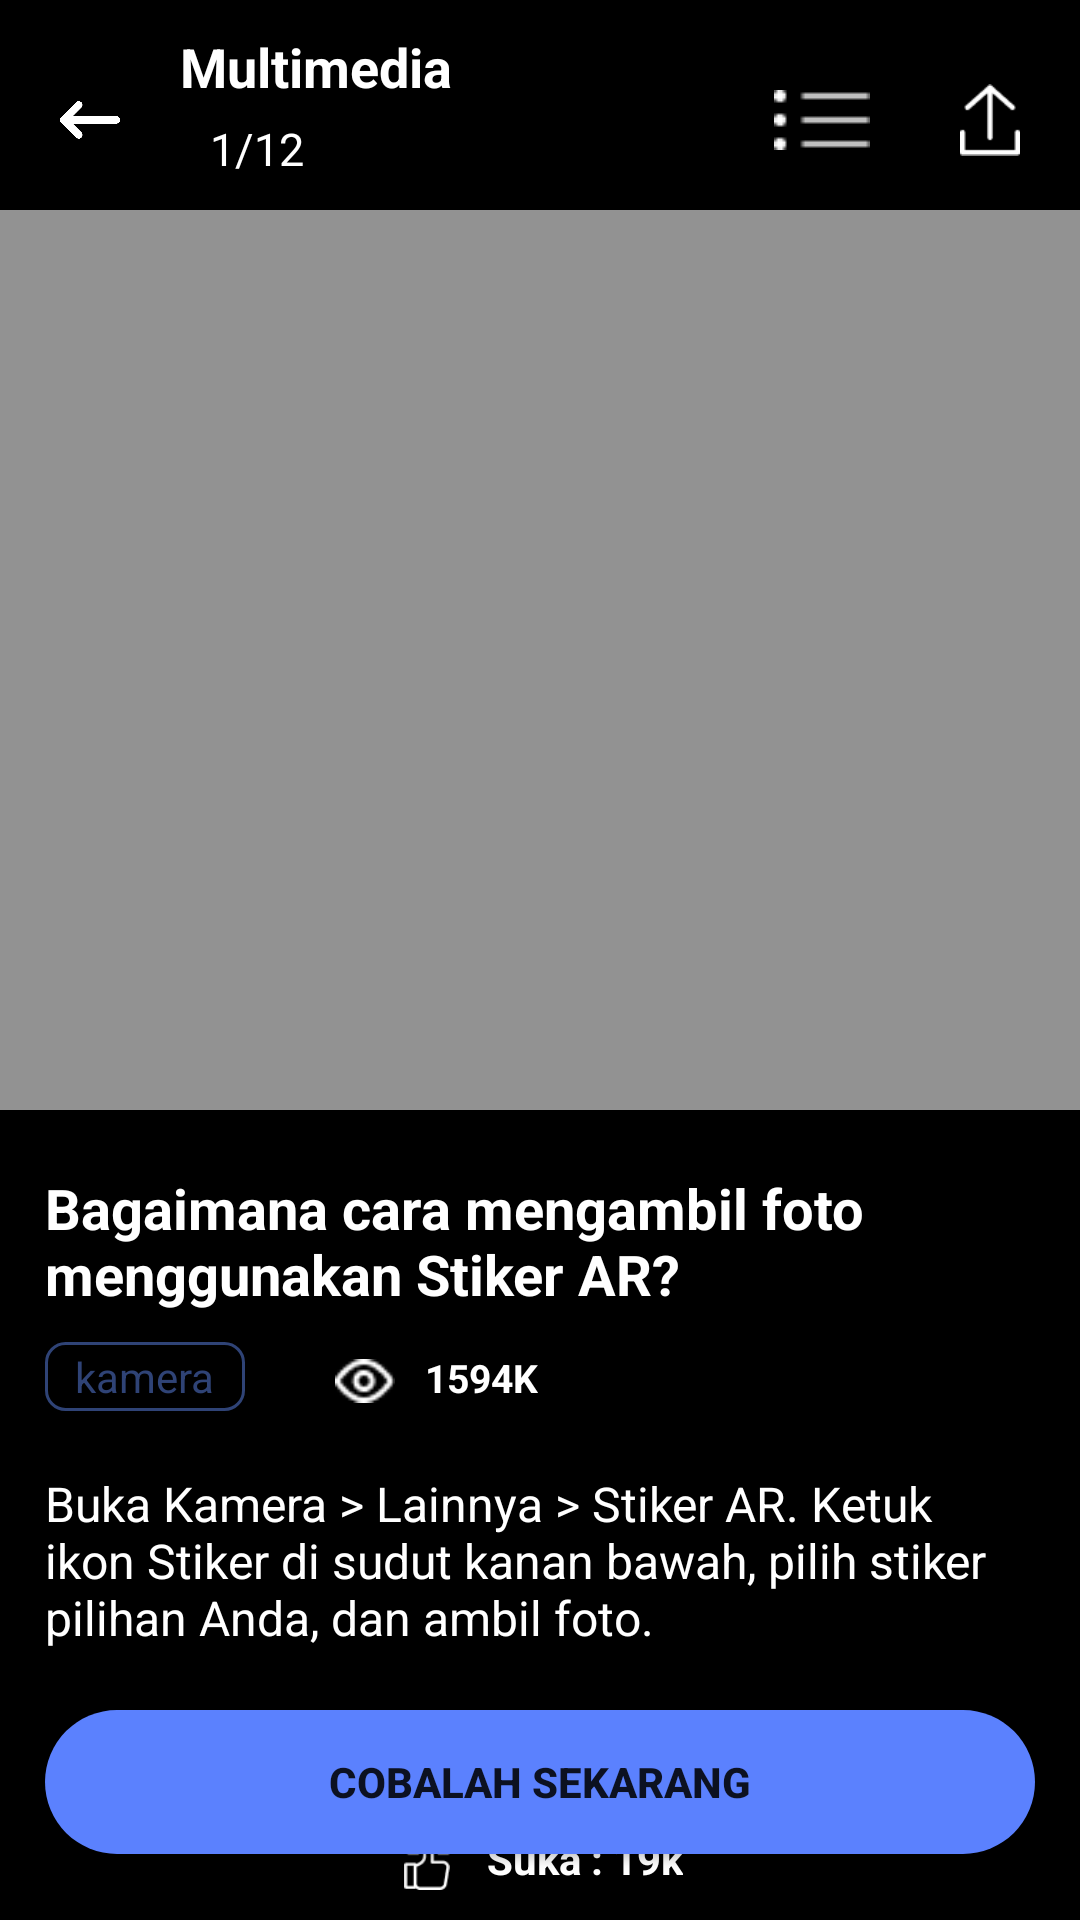

Point at icon controls on the screen. Image size 1080 x 1920, points as [x,y].
setting backvector: [90,120]
setting eye: [365,1381]
setting menu: [822,120]
setting upload: [990,120]
